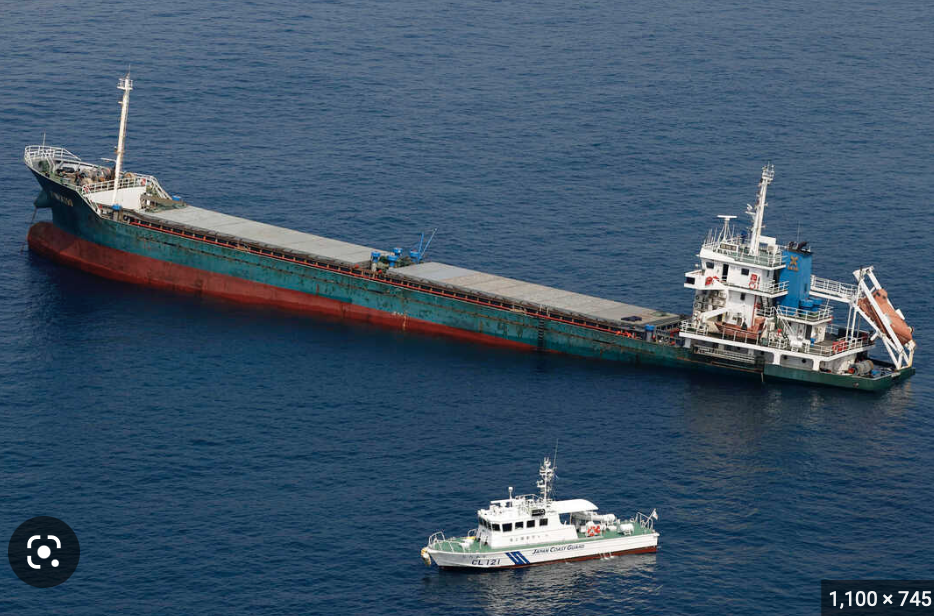ship: (16, 54, 916, 402), (394, 478, 688, 572)
